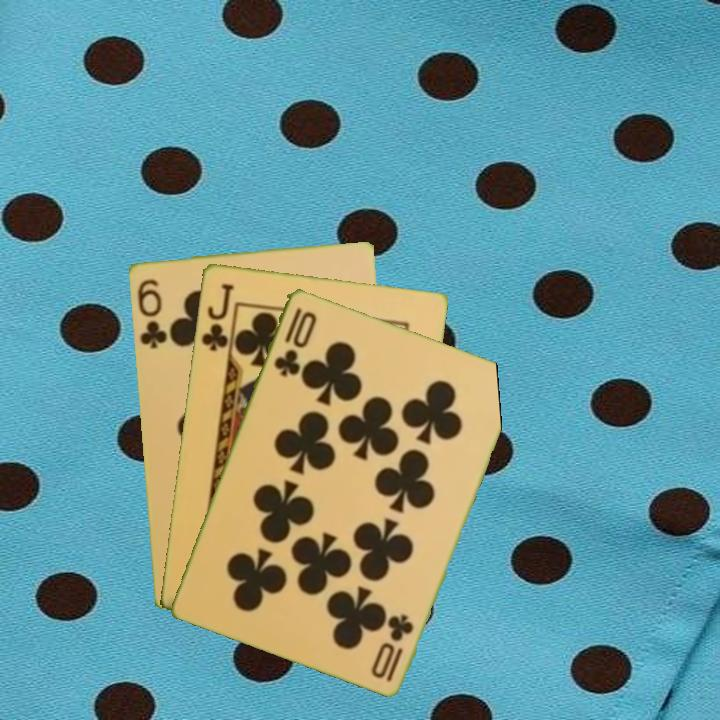10c: (270, 303, 319, 379), (382, 609, 417, 685)
6c: (133, 275, 170, 352)
Jc: (197, 279, 236, 354)
